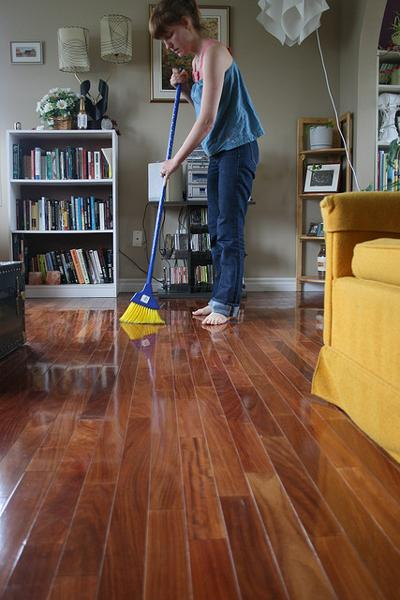person: (150, 3, 261, 328)
